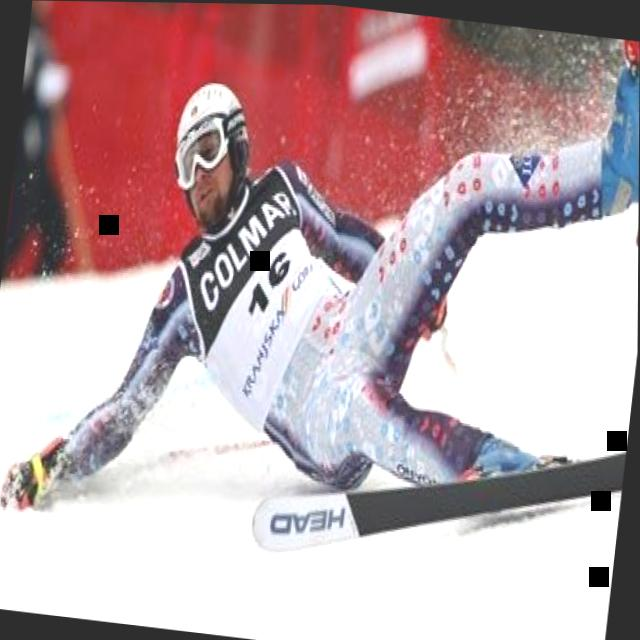Fall-Detected: (2, 19, 640, 558)
